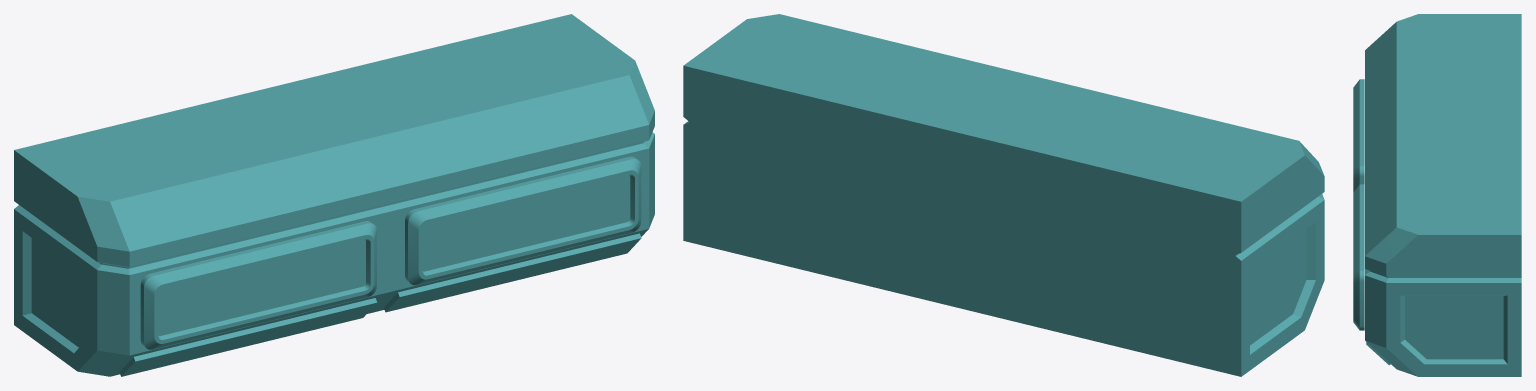
Rendered from Entrance01top.fbx.
The picture shows the model from 3 angles, left to right: view 1: azimuth 30°, elevation 25°; view 2: azimuth 150°, elevation 25°; view 3: azimuth 270°, elevation 25°; orthographic projection. The views are drawn at different scales.
Parts seen in each view (by area): view 1: Entrance01top; view 2: Entrance01top; view 3: Entrance01top.
Part boxes in pixels (x1=…): Entrance01top: x1=14, y1=14, x2=654, y2=376; Entrance01top: x1=683, y1=14, x2=1324, y2=376; Entrance01top: x1=1353, y1=14, x2=1521, y2=376.
Bounding box in the file's own units: 500 × 150 × 161.
